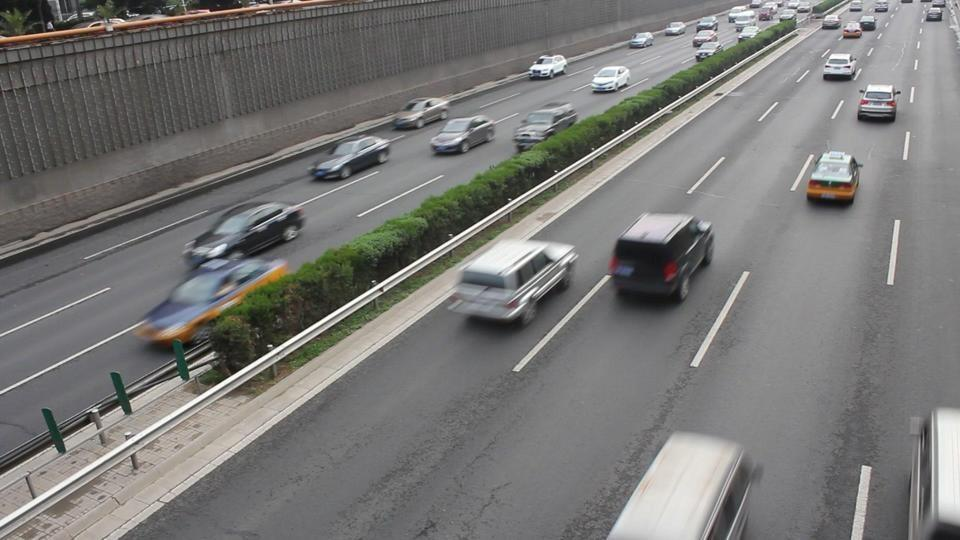car: (607, 431, 765, 538), (133, 255, 289, 350), (448, 239, 579, 328), (607, 212, 715, 304), (182, 201, 307, 270), (308, 136, 391, 182), (512, 101, 578, 153), (805, 150, 862, 205), (429, 115, 497, 155), (391, 96, 451, 131), (856, 82, 900, 122), (821, 50, 859, 81), (591, 65, 631, 93), (528, 53, 569, 80), (840, 21, 863, 39), (925, 3, 944, 22), (860, 15, 878, 30)
